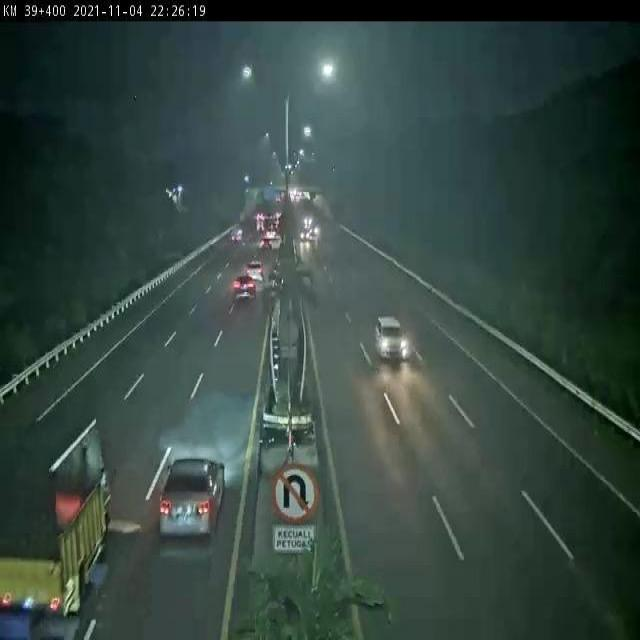car: (158, 458, 226, 538), (373, 314, 411, 362), (232, 272, 254, 301), (247, 259, 264, 285)
truck-m-: (1, 414, 112, 614)
